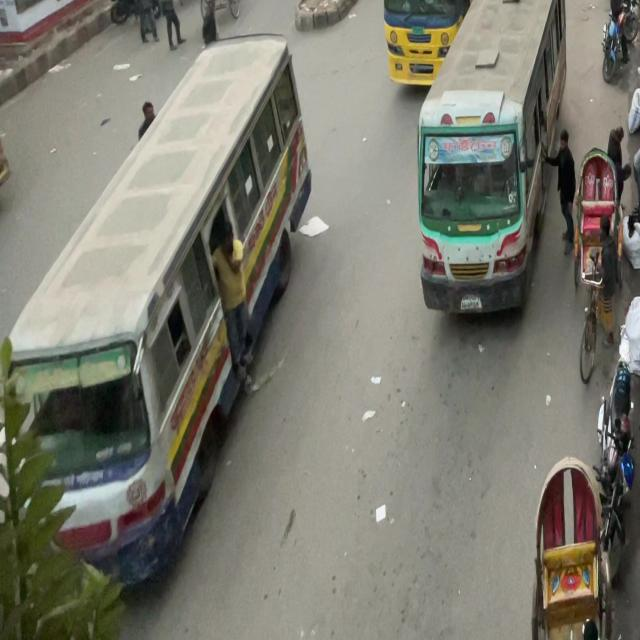bus: (0, 21, 317, 536), (412, 0, 591, 321), (367, 0, 539, 87)
